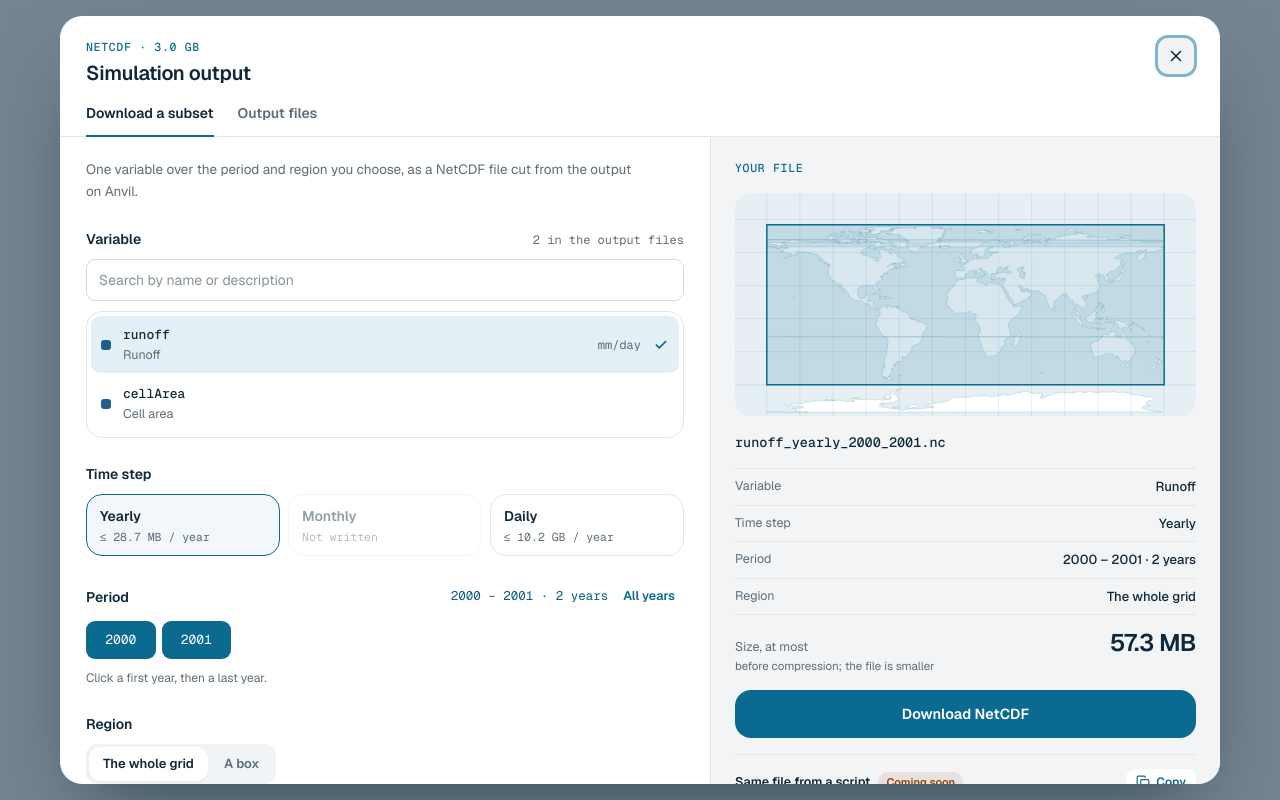
Test: the subset tab › picks a period in two clicks and shows the whole of it again with All years
The image size is (1280, 800).
Click the button "2001". click: (196, 640)
box: [162,621,231,659]
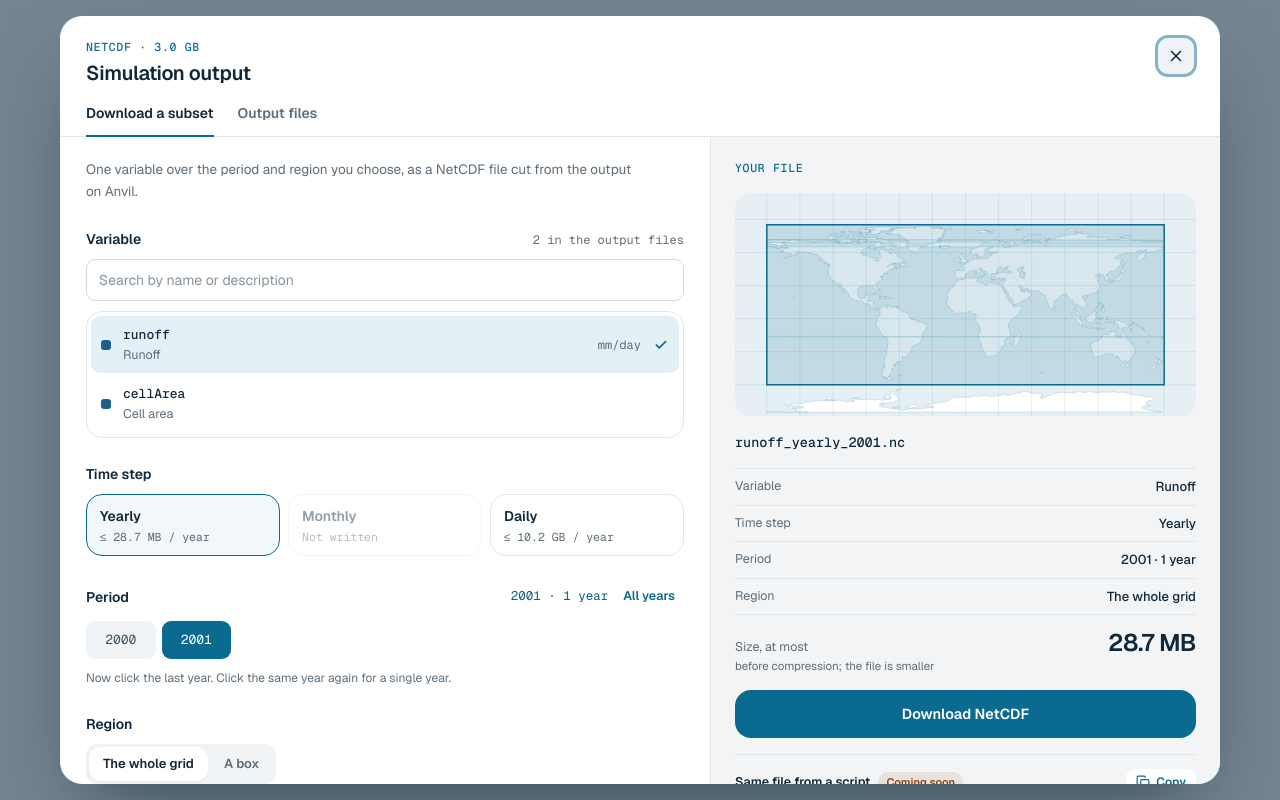
expect the text "Now click the last year" is shown: met, box [86,670,451,686]
Click the button "2001". click: (196, 640)
box: [162,621,231,659]
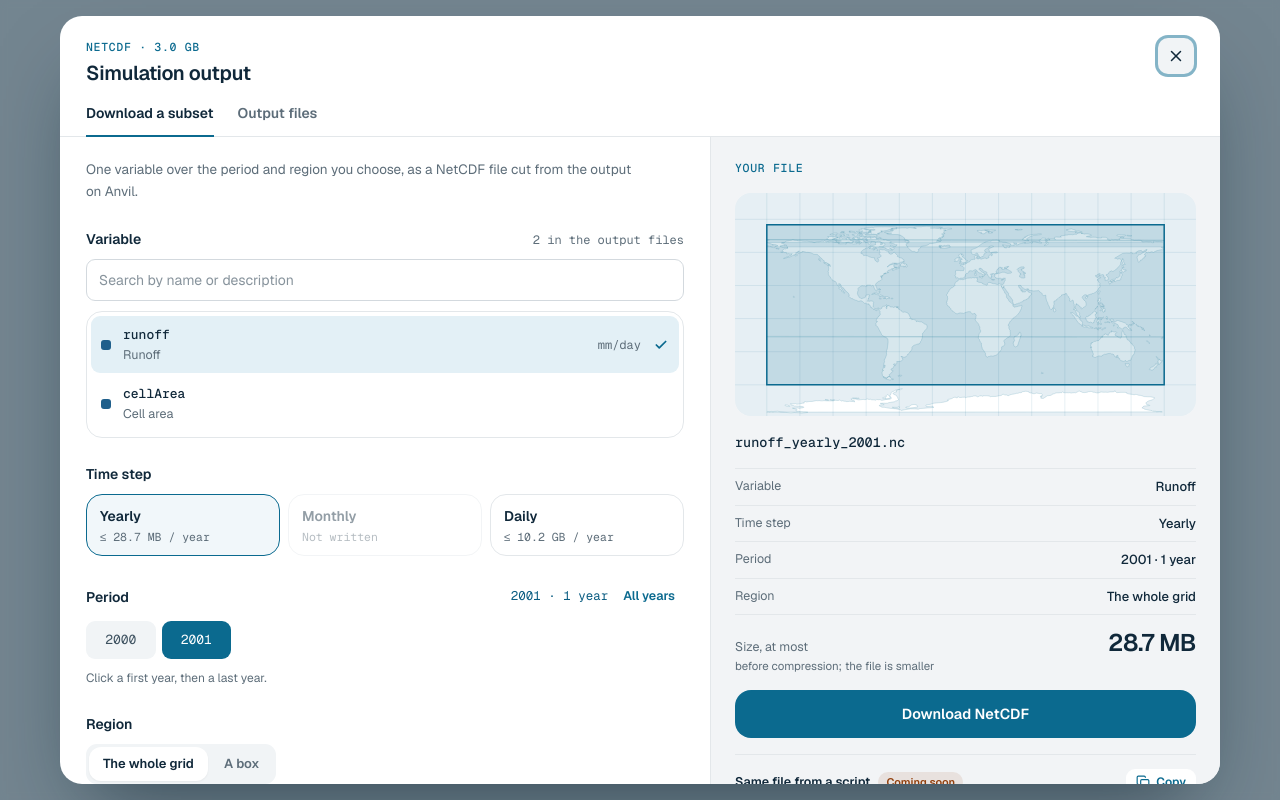
expect the 2nd text "2001 · 1 year" is shown: met, box [511,587,608,606]
Click the button "All years". click: (649, 597)
box: [614,582,684,611]
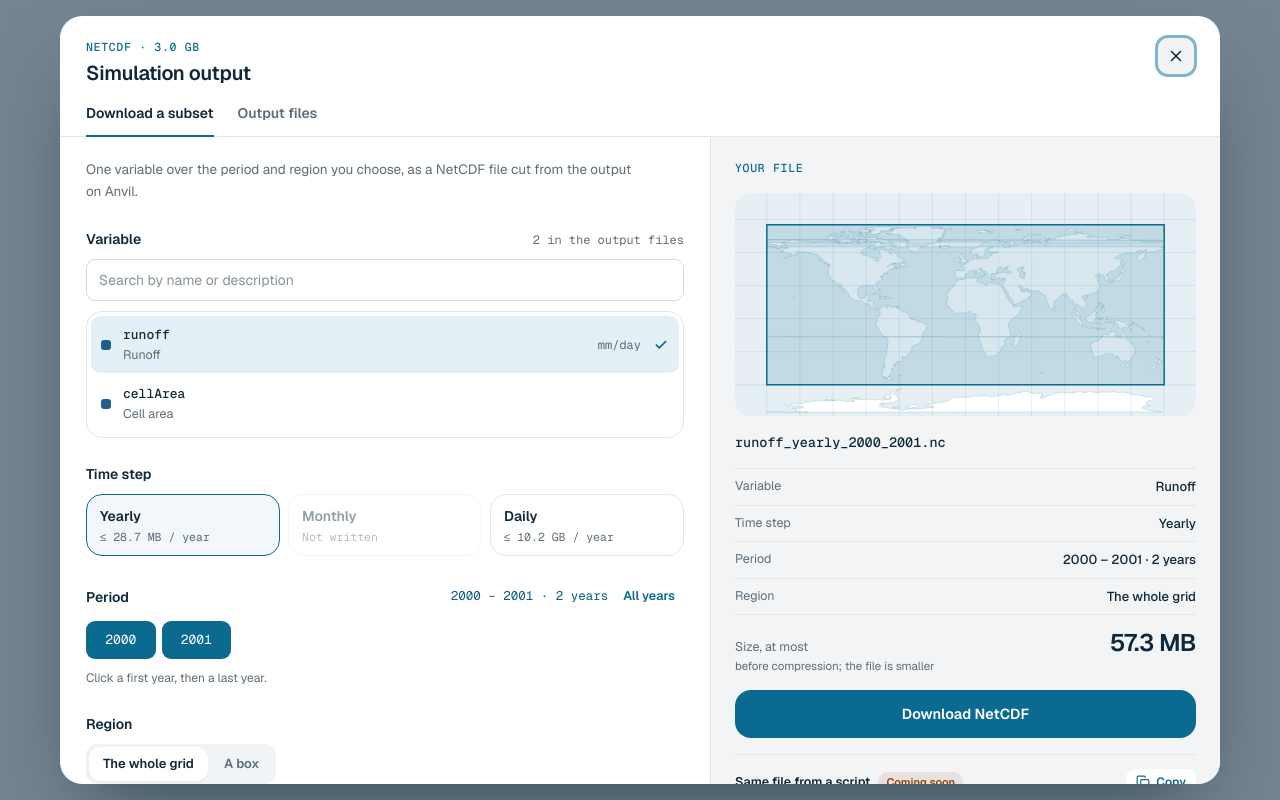
expect the 2nd text "2000 – 2001 · 2 years" is shown: met, box [451,587,608,606]
